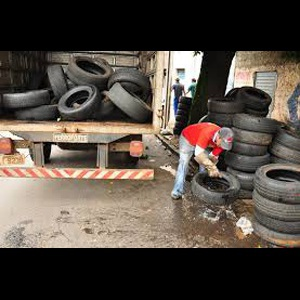tire: (253, 163, 300, 204), (107, 84, 153, 124), (191, 170, 240, 205), (58, 83, 101, 122), (107, 69, 151, 107), (250, 191, 300, 221), (67, 53, 113, 85), (45, 64, 68, 112), (224, 151, 271, 172), (2, 89, 48, 109), (228, 126, 272, 146), (232, 113, 278, 132), (237, 86, 272, 109), (14, 104, 60, 121), (207, 97, 242, 113)
